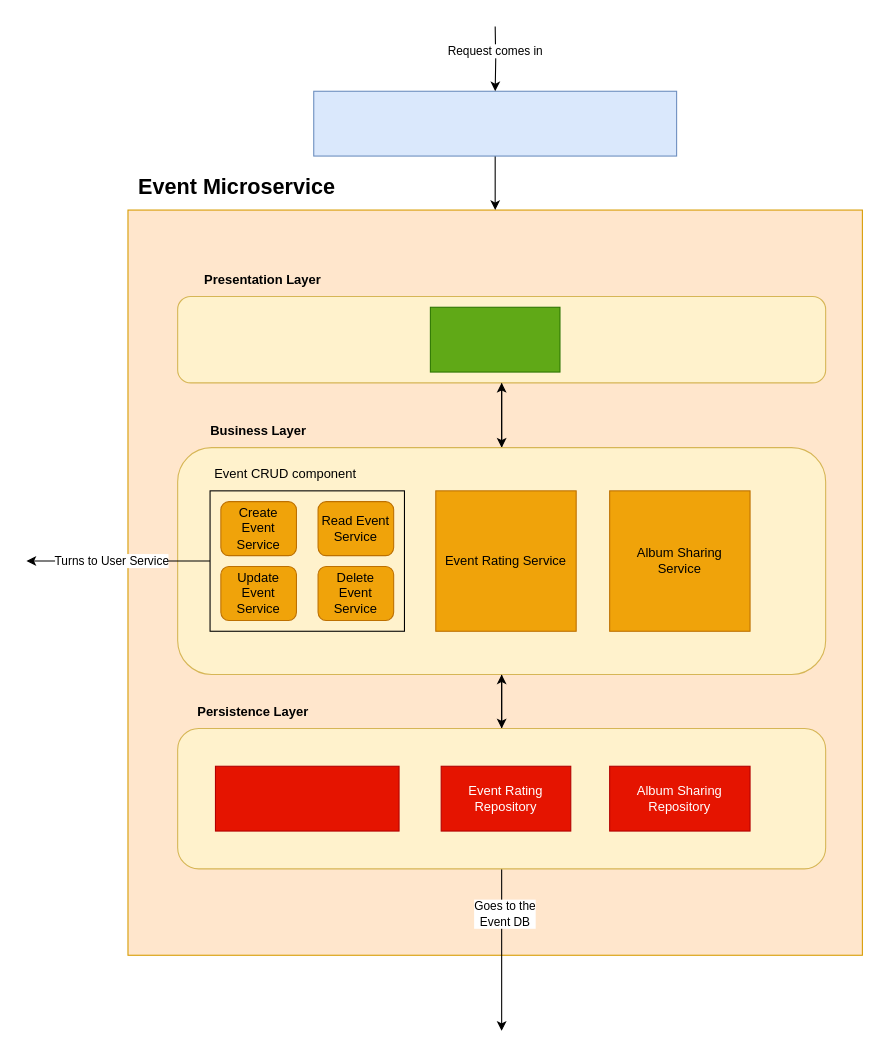
This 881x1058 diagram has some shape labels left out. Here are the shapes that lost their labels. From the top down, the box of each, then its label:
(313, 90, 677, 156): API
(429, 306, 560, 372): Event Controller
(214, 765, 399, 831): Event CRUD Repository Component
